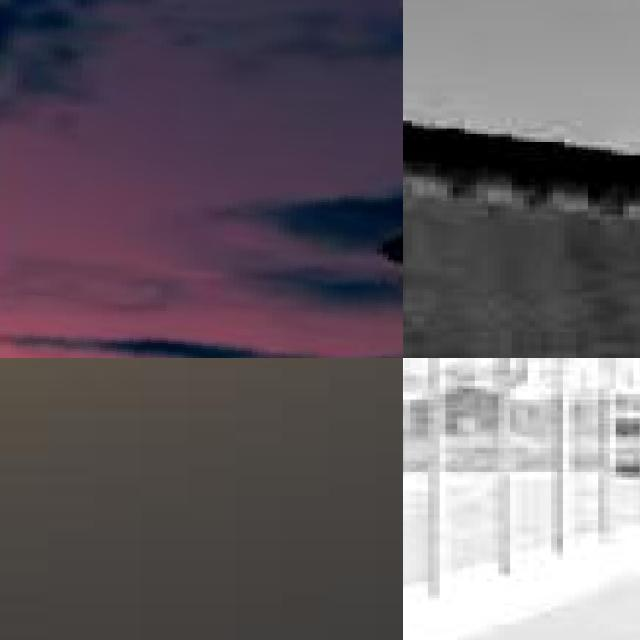street light: (0, 0, 403, 358), (403, 358, 615, 573), (403, 358, 574, 603), (403, 358, 498, 627)
